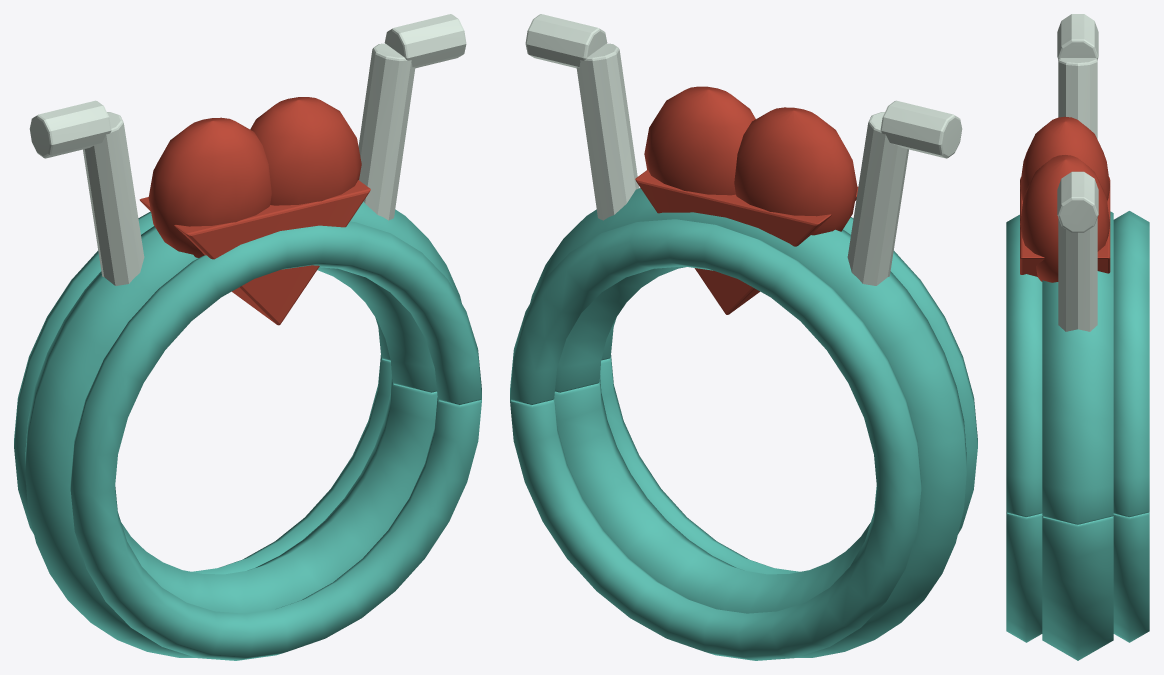
File: item_081.glb
3 renders of one model, left to right at view 1: azimuth 30°, elevation 25°; view 2: azimuth 150°, elevation 25°; view 3: azimuth 270°, elevation 25°, orthographic. The views are drawn at different scales.
Parts seen in each view (by area): view 1: Item_081_heartbeat_ring; view 2: Item_081_heartbeat_ring; view 3: Item_081_heartbeat_ring.
Part boxes in pixels (x1=…): Item_081_heartbeat_ring: x1=14, y1=14, x2=481, y2=660; Item_081_heartbeat_ring: x1=510, y1=14, x2=977, y2=660; Item_081_heartbeat_ring: x1=1006, y1=14, x2=1149, y2=660.
Bounding box in the file's own units: 0.3639 × 0.4572 × 0.1112.
